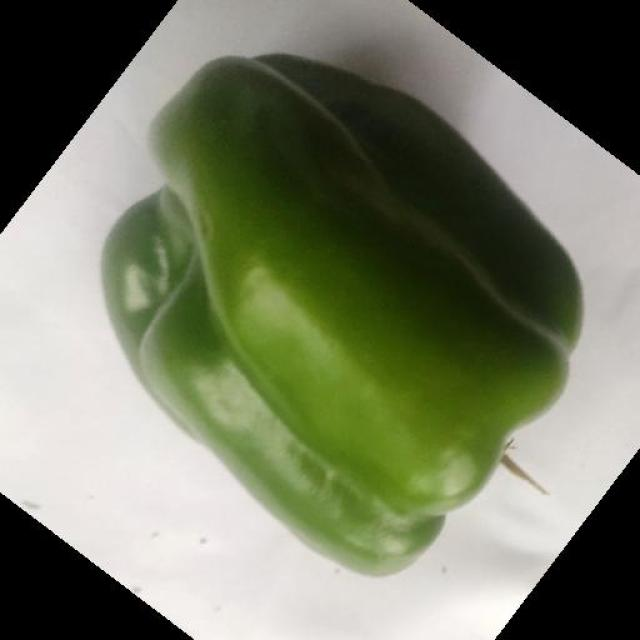Fresh_Capsicum: (109, 56, 567, 557)
